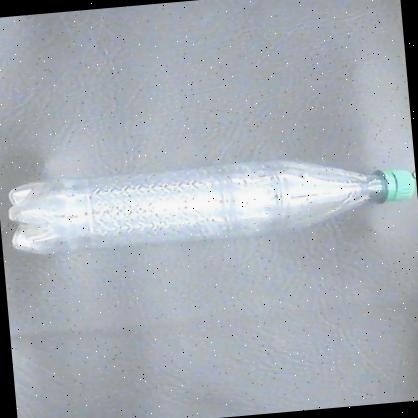bottle: (1, 146, 415, 262)
cap: (374, 162, 418, 208)
